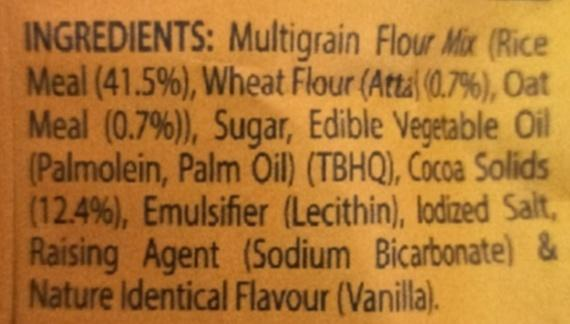ingredients: (12, 13, 566, 324)
